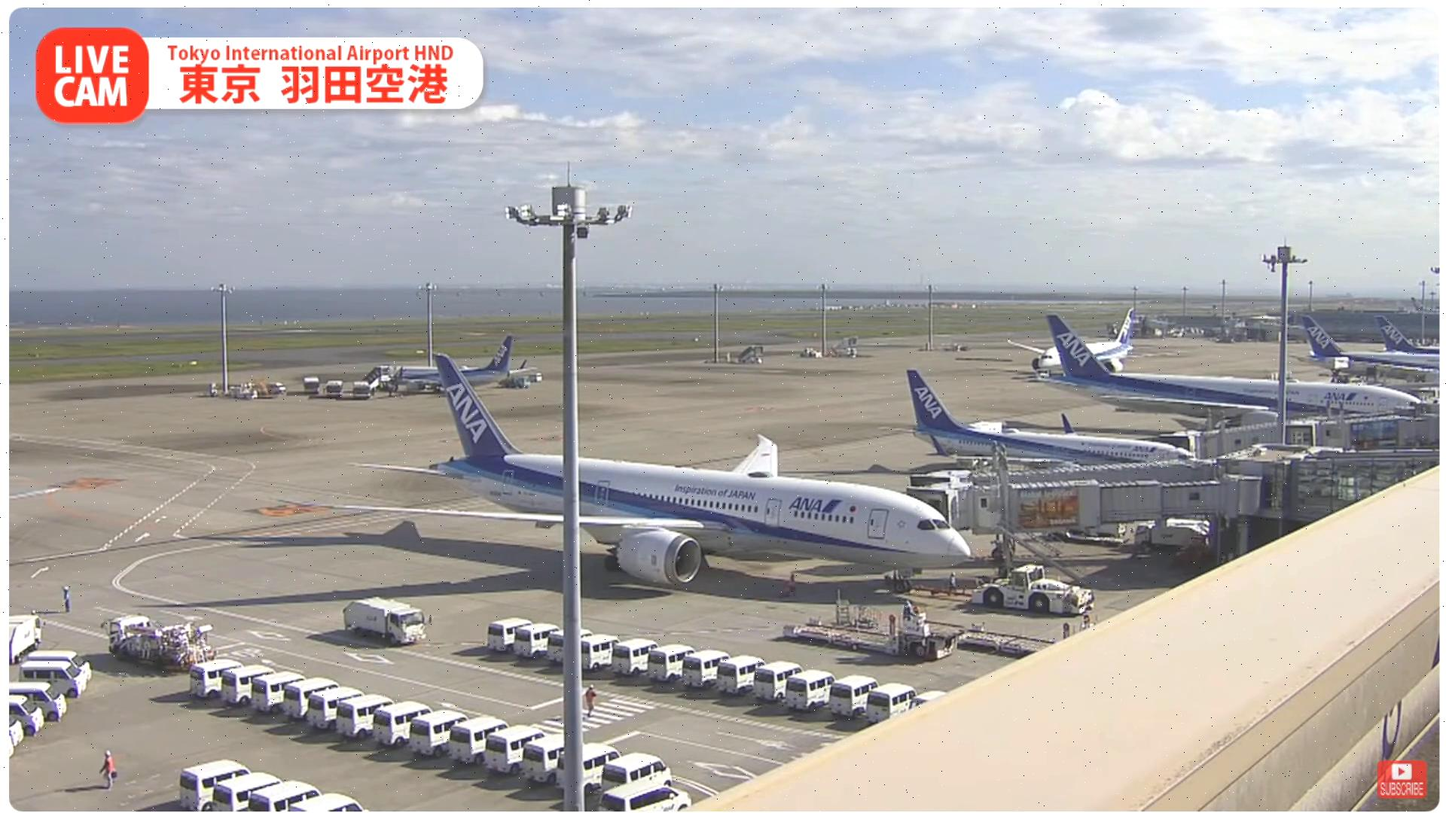APS: (971, 562, 1095, 617)
Aerobridge: (907, 443, 1262, 582), (910, 442, 1215, 486)
Airplane: (276, 351, 973, 594)
Baggage truck: (343, 596, 426, 646)
JCPL: (783, 613, 959, 662), (958, 616, 1098, 657)
Window: (1297, 458, 1440, 522)
